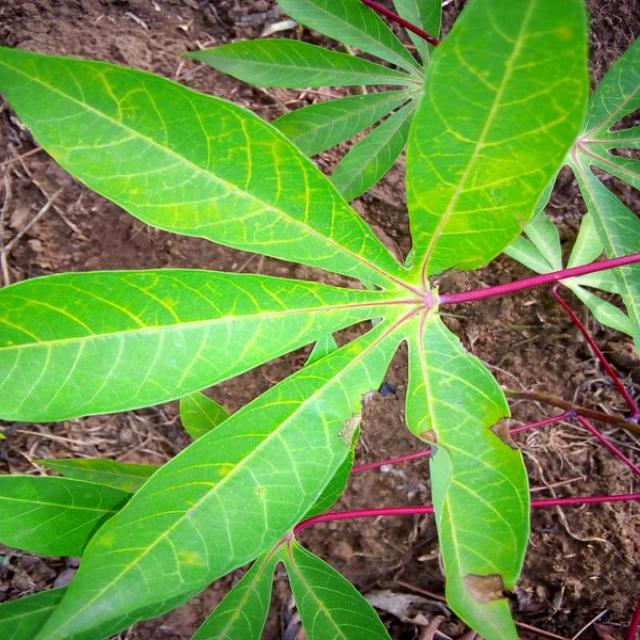cassava leaf: (1, 1, 633, 638), (30, 316, 401, 639), (0, 43, 412, 289), (404, 0, 590, 281), (417, 308, 531, 638)
